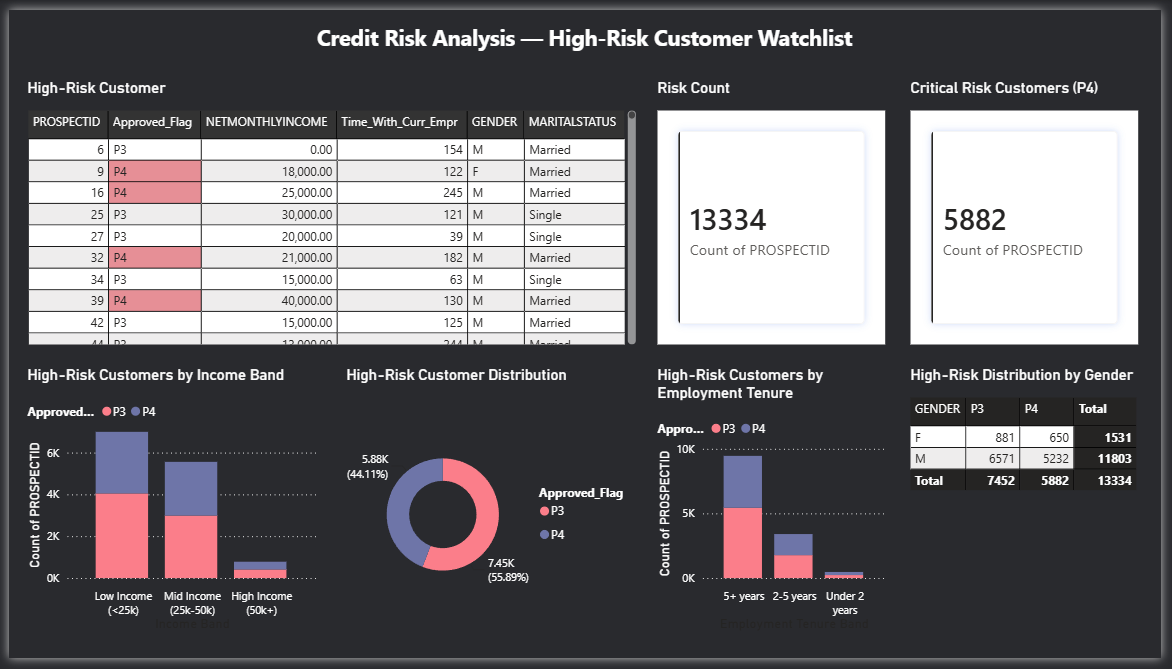

What the dashboard file says about the page in this screenshot:
{"tool":"powerbi","page":{"name":"Risk Watchlist","canvas":[1280,720],"ordinal":2},"visuals":[{"type":"textbox","box":[242.2,8.9,794.4,46.7],"z":0},{"type":"tableEx","title":"High-Risk Customer","fields":{"Values":["credit_risk_analysis external_cibil_data.PROSPECTID","credit_risk_analysis external_cibil_data.Approved_Flag","credit_risk_analysis external_cibil_data.NETMONTHLYINCOME","credit_risk_analysis external_cibil_data.Time_With_Curr_Empr","credit_risk_analysis external_cibil_data.GENDER","credit_risk_analysis external_cibil_data.MARITALSTATUS"]},"box":[15.6,76.7,685.7,300],"z":1000},{"type":"cardVisual","title":"Risk Count","fields":{"Data":["CountNonNull(credit_risk_analysis external_cibil_data.PROSPECTID)"]},"box":[715,76.7,263.3,300],"z":2000},{"type":"donutChart","title":"High-Risk Customer Distribution","fields":{"Category":["credit_risk_analysis external_cibil_data.Approved_Flag"],"Y":["CountNonNull(credit_risk_analysis external_cibil_data.PROSPECTID)"]},"box":[370,395,330,300],"z":3000},{"type":"columnChart","title":"High-Risk Customers by Income Band","fields":{"Category":["credit_risk_analysis external_cibil_data.Income Band"],"Y":["CountNonNull(credit_risk_analysis external_cibil_data.PROSPECTID)"],"Series":["credit_risk_analysis external_cibil_data.Approved_Flag"]},"box":[15,395,331.7,300],"z":4000},{"type":"cardVisual","title":"Critical Risk Customers (P4)","fields":{"Data":["CountNonNull(credit_risk_analysis internal_bank_data.PROSPECTID)"]},"box":[996.7,76.7,263.3,300],"z":5000},{"type":"columnChart","title":"High-Risk Customers by Employment Tenure","fields":{"Category":["credit_risk_analysis external_cibil_data.Employment Tenure Band"],"Y":["CountNonNull(credit_risk_analysis external_cibil_data.PROSPECTID)"],"Series":["credit_risk_analysis external_cibil_data.Approved_Flag"]},"box":[715,395,263.3,300],"z":6000},{"type":"pivotTable","title":"High-Risk Distribution by Gender","fields":{"Rows":["credit_risk_analysis external_cibil_data.GENDER"],"Columns":["credit_risk_analysis external_cibil_data.Approved_Flag"],"Values":["CountNonNull(credit_risk_analysis external_cibil_data.PROSPECTID)"]},"box":[997,395,263,300],"z":7000}]}

Visuals, with their boxes in screenshot pixels (x1, y1, x2, y2), scaled from the page's 1280x720 canvas onto the 1172x669 screenshot:
textbox: (222,8,949,52)
"High-Risk Customer" tableEx: (14,71,642,350)
"Risk Count" cardVisual: (655,71,896,350)
"High-Risk Customer Distribution" donutChart: (339,367,641,646)
"High-Risk Customers by Income Band" columnChart: (14,367,317,646)
"Critical Risk Customers (P4)" cardVisual: (913,71,1154,350)
"High-Risk Customers by Employment Tenure" columnChart: (655,367,896,646)
"High-Risk Distribution by Gender" pivotTable: (913,367,1154,646)
